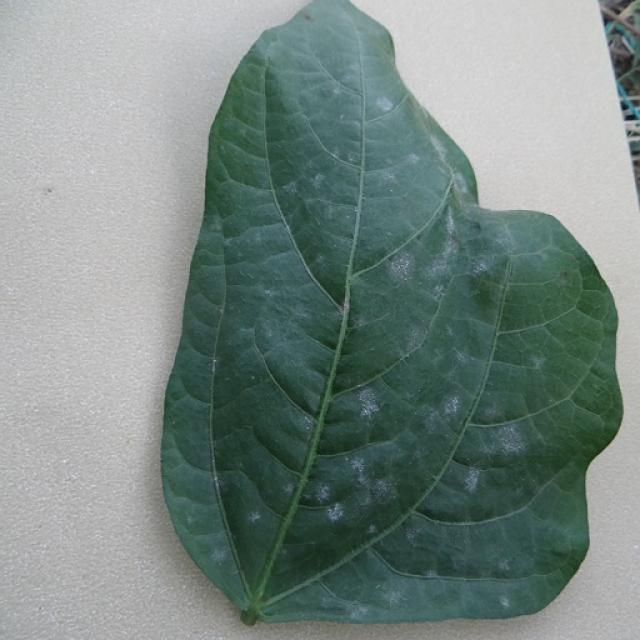Blackgram: (162, 0, 621, 621)
Powdery_Mildew: (498, 336, 577, 406), (366, 433, 441, 498), (314, 468, 390, 532), (371, 241, 430, 287), (304, 480, 356, 526), (419, 244, 454, 289), (352, 384, 390, 423), (435, 223, 462, 274), (491, 424, 529, 458), (422, 404, 453, 437), (306, 477, 339, 506), (238, 506, 267, 529), (356, 387, 378, 417), (440, 395, 460, 418), (470, 256, 490, 277), (372, 478, 391, 499), (481, 404, 502, 422), (464, 470, 480, 493), (352, 311, 368, 330), (350, 457, 366, 476), (376, 97, 393, 113), (431, 284, 445, 301), (405, 526, 419, 541), (406, 152, 420, 166), (284, 482, 295, 496), (367, 524, 378, 534)
